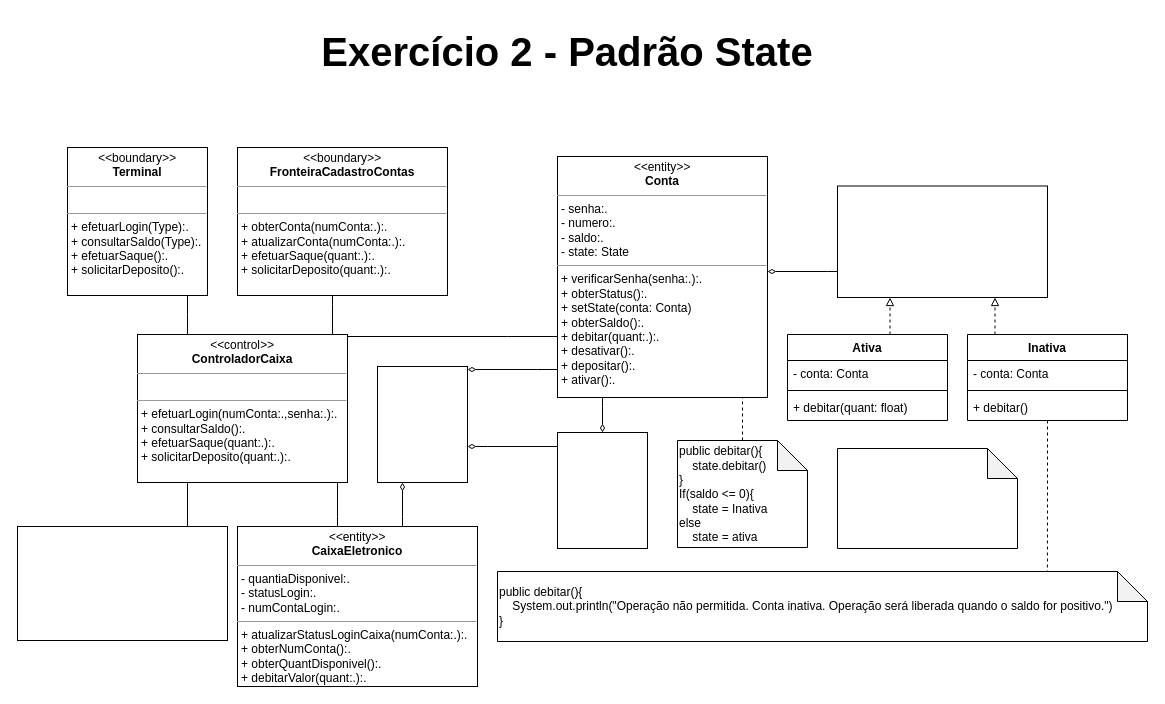
The diagram is 1165 pixels wide and 704 high, and some of its shapes have lost their labels. Here are the shapes that lost their labels. From the top down, the centre of each, then its label:
At point (942, 241): "<< interface >> State - conta: Conta + debitar(quant:.):.".
At point (422, 424): "<< entity >> Banco - cod:. - nome:.".
At point (602, 490): "<< entity >> FichaCliente - nome:. - RG:. - CPF:.".
At point (927, 498): "public debitar(quant: float){ conta }".
At point (122, 583): "<< boundary >> FronteiraDispensadorNotas + liberarQuantia(quant:.):.".
